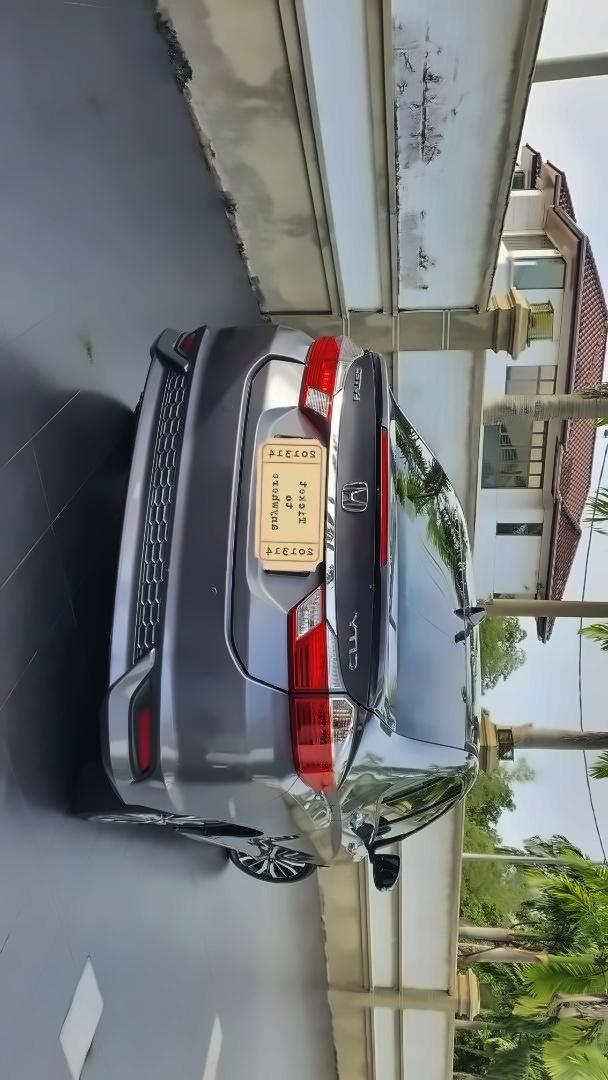Car boot: (220, 323, 426, 720)
Rear bumper: (85, 295, 297, 830)
Rear light - -L-: (295, 327, 346, 440)
Rear light - -R-: (277, 577, 346, 797)
Side mirror - -R-: (365, 842, 410, 899)
